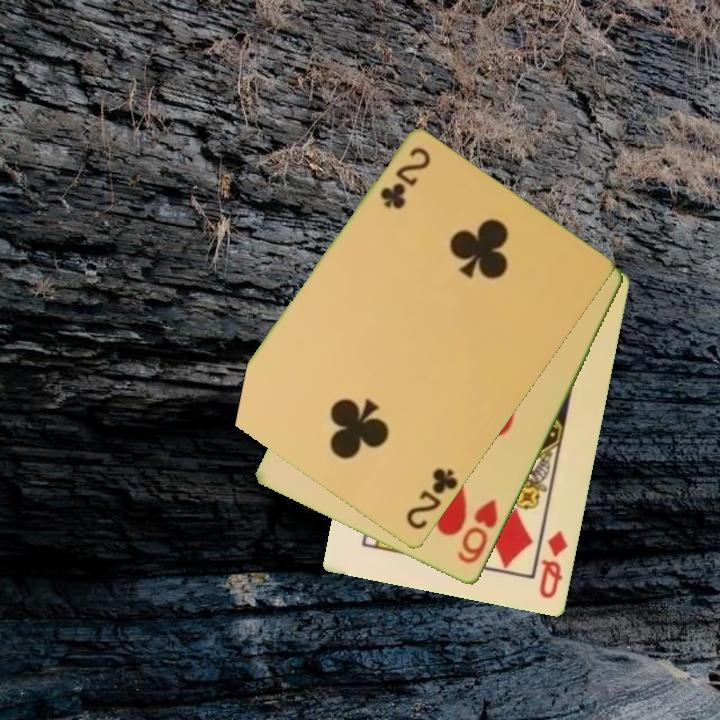2c: (403, 465, 461, 534), (376, 144, 434, 212)
6h: (454, 496, 502, 568)
Qd: (536, 527, 571, 602)
